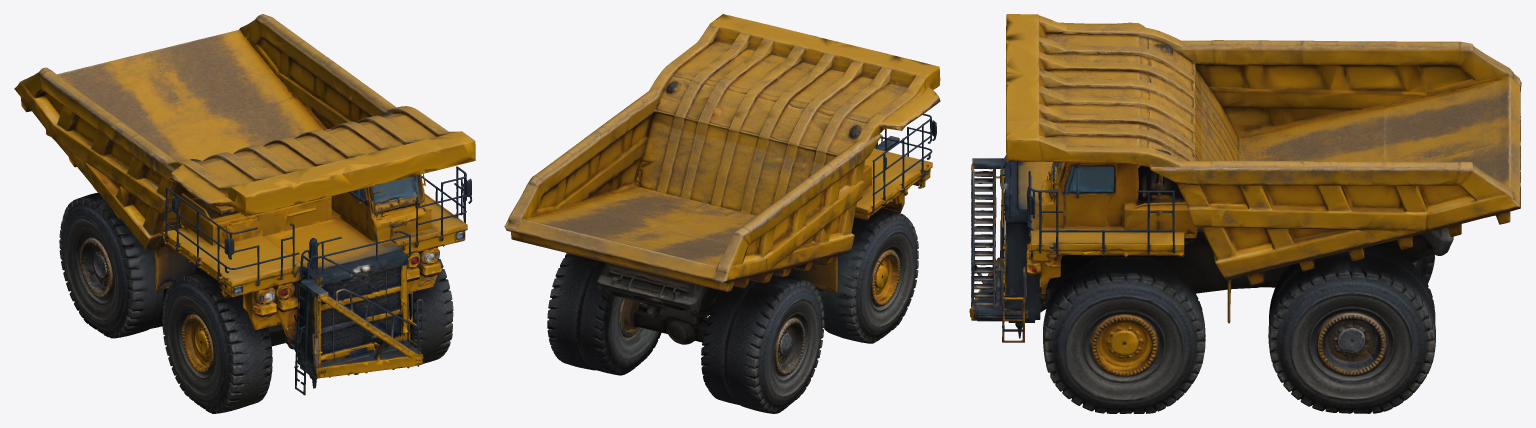
Rendered from carga.glb.
3 renders of one model, left to right at view 1: azimuth 30°, elevation 25°; view 2: azimuth 150°, elevation 25°; view 3: azimuth 270°, elevation 25°, orthographic. The views are drawn at different scales.
Visible parts, largest first — view 1: tripo_node_89112540-4805-446d-bd14-3cbbd15bb72b; view 2: tripo_node_89112540-4805-446d-bd14-3cbbd15bb72b; view 3: tripo_node_89112540-4805-446d-bd14-3cbbd15bb72b.
Boxes of the visible parts, left/top/right/bottom form: tripo_node_89112540-4805-446d-bd14-3cbbd15bb72b: left=14, top=14, right=475, bottom=413; tripo_node_89112540-4805-446d-bd14-3cbbd15bb72b: left=504, top=14, right=940, bottom=413; tripo_node_89112540-4805-446d-bd14-3cbbd15bb72b: left=969, top=14, right=1521, bottom=413.
Bounding box in the file's own units: 0.5898 × 0.5429 × 0.977.
1 material, 1 textured.
